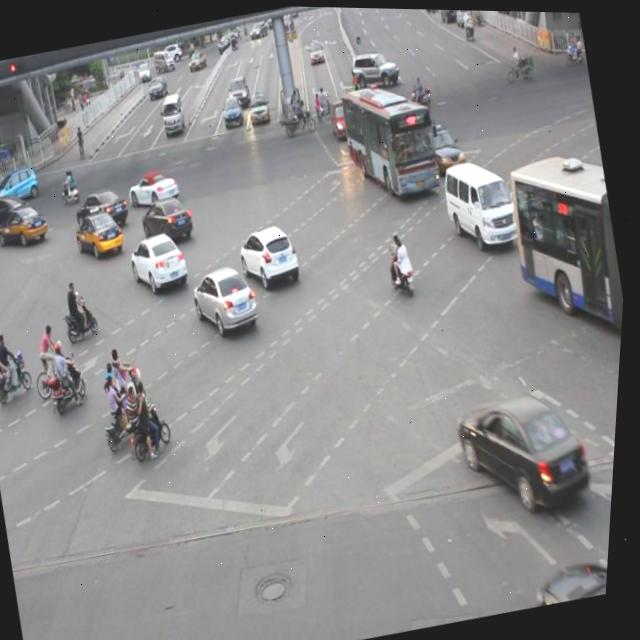car: (452, 374, 603, 520), (189, 256, 267, 336), (534, 539, 615, 604), (236, 218, 306, 290), (126, 225, 195, 295), (138, 190, 199, 248), (74, 182, 135, 234), (73, 204, 129, 260), (419, 115, 469, 175), (0, 198, 53, 250), (126, 164, 184, 211), (328, 95, 364, 140)
truck: (436, 149, 525, 251)
van: (496, 143, 634, 363), (336, 73, 447, 205)
